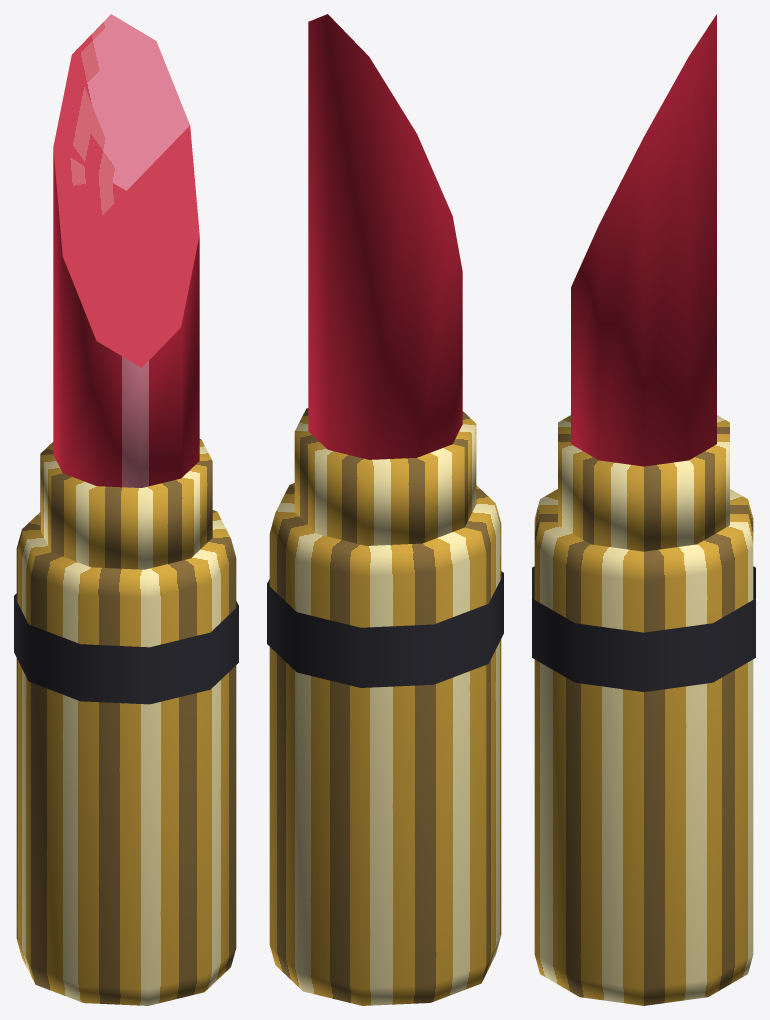
Rendered from personal-lipstick.glb.
The picture shows the model from 3 angles, left to right: view 1: azimuth 30°, elevation 25°; view 2: azimuth 150°, elevation 25°; view 3: azimuth 270°, elevation 25°; orthographic projection. The views are drawn at different scales.
Parts seen in each view (by area): view 1: personal.lipstick; view 2: personal.lipstick; view 3: personal.lipstick.
Boxes of the visible parts, bbox=[...] form: personal.lipstick: bbox=[14, 14, 238, 1005]; personal.lipstick: bbox=[267, 14, 503, 1005]; personal.lipstick: bbox=[532, 14, 755, 1005].
Bounding box in the file's own units: 0.4368 × 1.96 × 0.4154.
Materials: 4 (4 with a texture image).
